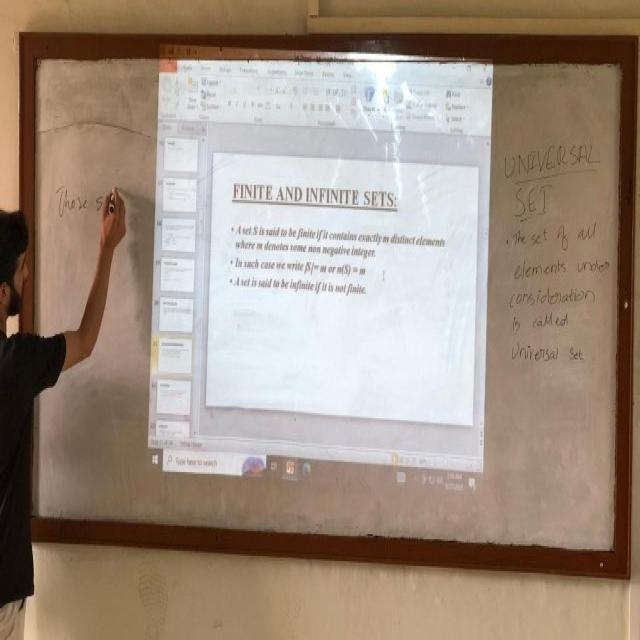Instructor: (0, 179, 61, 617)
Slide: (143, 51, 497, 512)
White-board: (19, 49, 632, 570)
